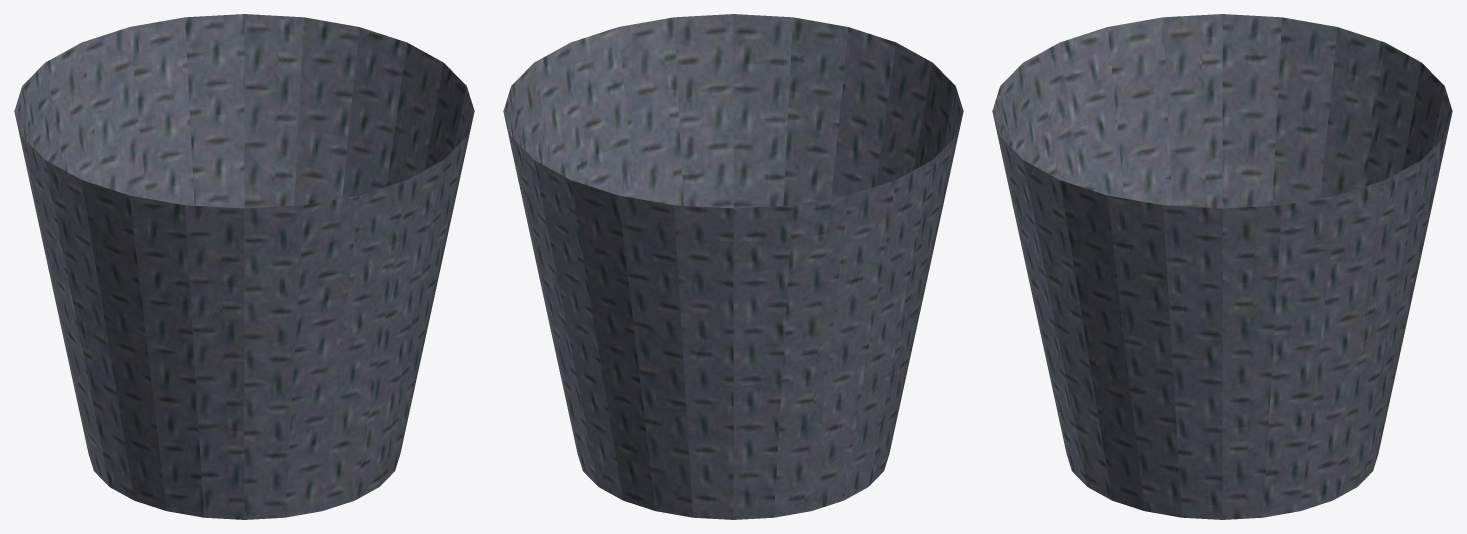
3 views of the same model, side by side, from view 1: azimuth 30°, elevation 25°; view 2: azimuth 150°, elevation 25°; view 3: azimuth 270°, elevation 25° (orthographic).
Visible parts, largest first — view 1: mesh1_mesh1-geometry; view 2: mesh1_mesh1-geometry; view 3: mesh1_mesh1-geometry.
Part boxes in pixels (x1=…): mesh1_mesh1-geometry: x1=14, y1=14, x2=474, y2=519; mesh1_mesh1-geometry: x1=503, y1=14, x2=963, y2=519; mesh1_mesh1-geometry: x1=992, y1=14, x2=1452, y2=519.
Bounding box in the file's own units: 0.6114 × 0.5025 × 0.6114.
